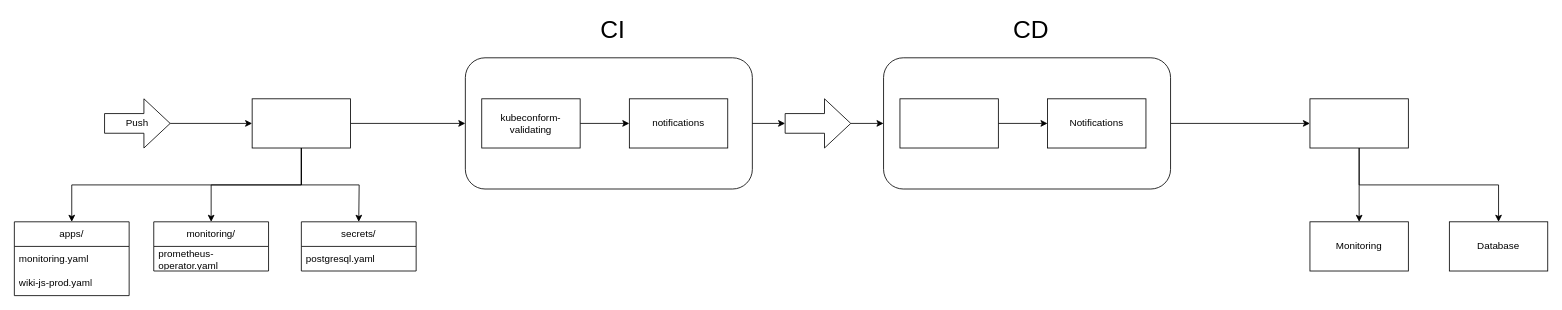
This 1562x310 diagram has some shape labels left out. The shapes that lost their labels are listed below. From the top down, each one's centre as x and y in pixels, then its label:
At (301,123): "Pipeline ArgoCD Project Repo".
At (817,123): "Pull".
At (948,123): "ArgoCD".
At (1358,123): "Cluster".
